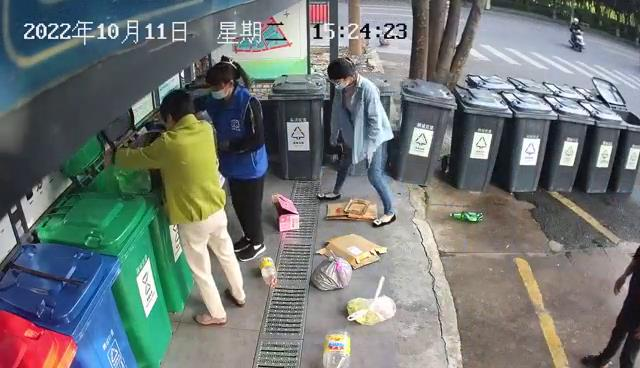garbage-bag: (345, 275, 398, 326), (309, 248, 353, 292), (448, 208, 486, 224)
person: (101, 87, 247, 326)
suliaozhipin: (321, 328, 352, 368), (257, 255, 278, 289)
worker: (188, 54, 269, 262), (315, 56, 397, 228)
zhizhipin: (313, 232, 389, 271), (324, 196, 379, 221), (271, 192, 301, 232)
